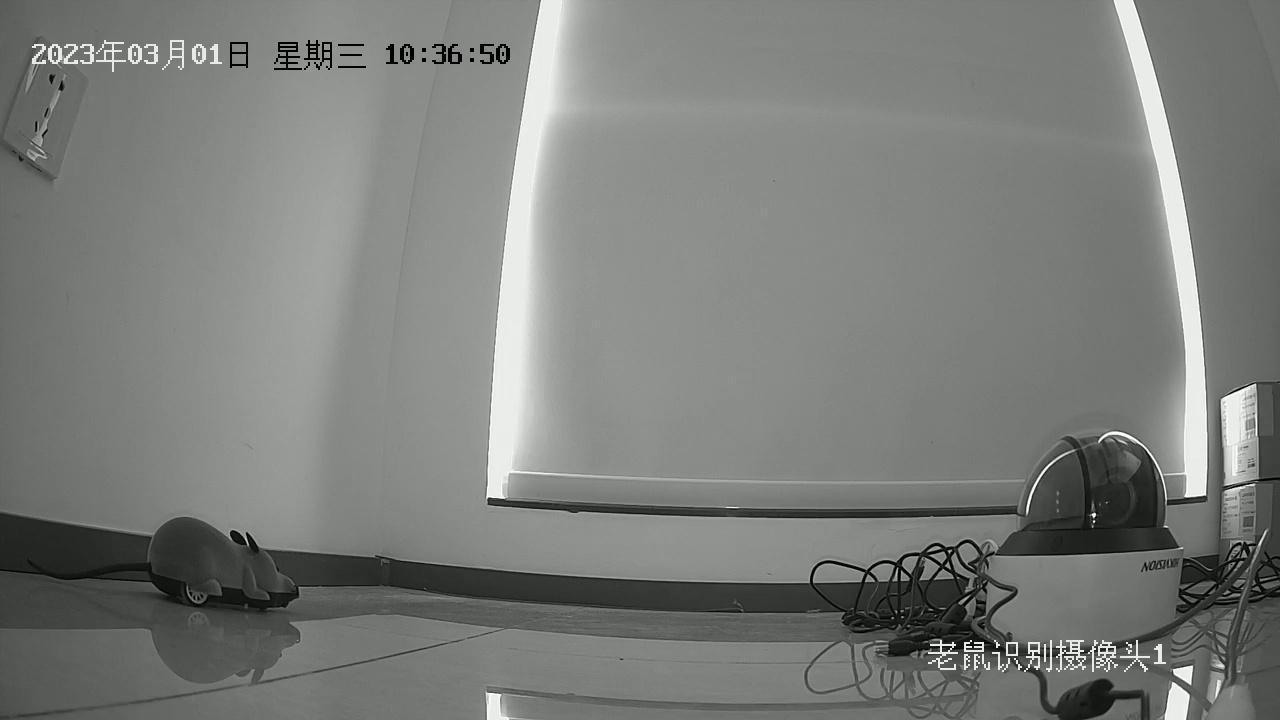rat: (26, 515, 300, 609)
